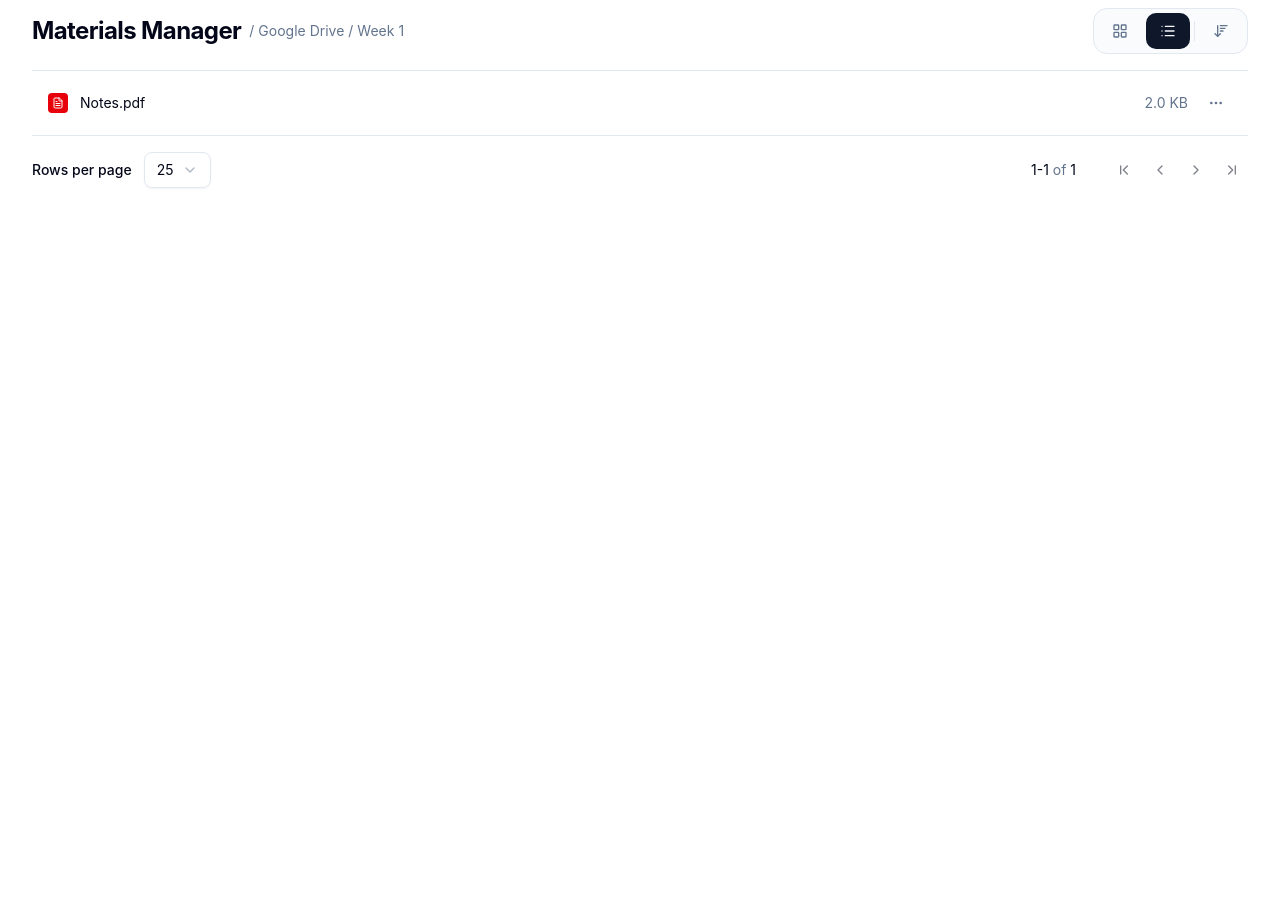
Test: MaterialsPage › opens a PDF in the viewer
Click the text "Notes.pdf": coordinates (113, 103) 80,93 -> 145,113
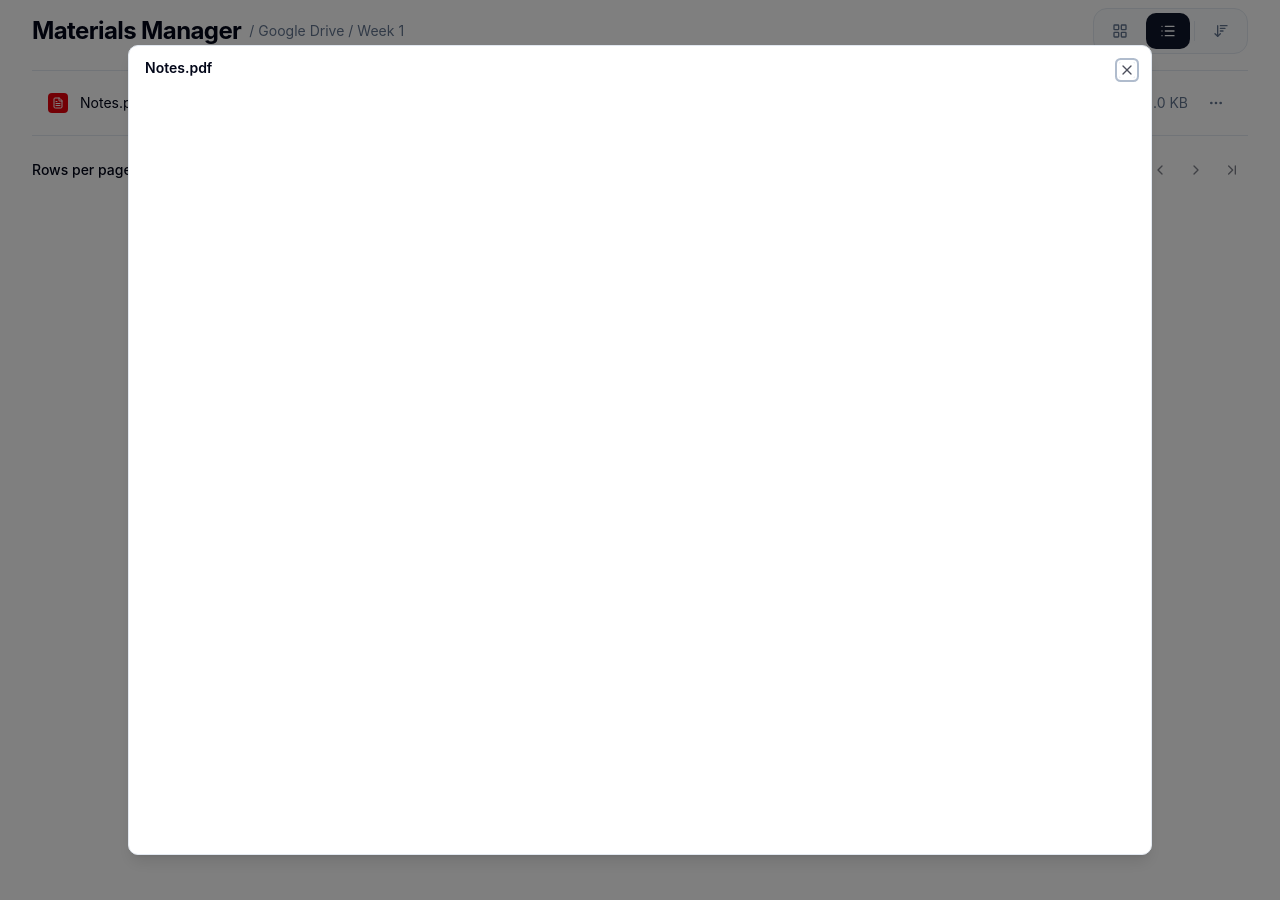
Result: the dialog reads "Notes.pdf" at 145,59 -> 212,76
